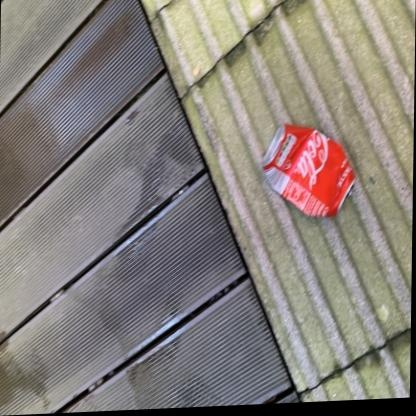trash: (263, 124, 354, 216)
